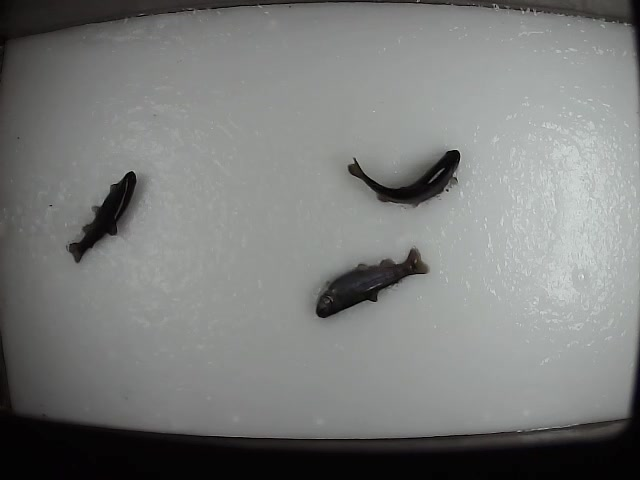Fish: (316, 245, 429, 318), (69, 171, 137, 263), (346, 158, 460, 207)
